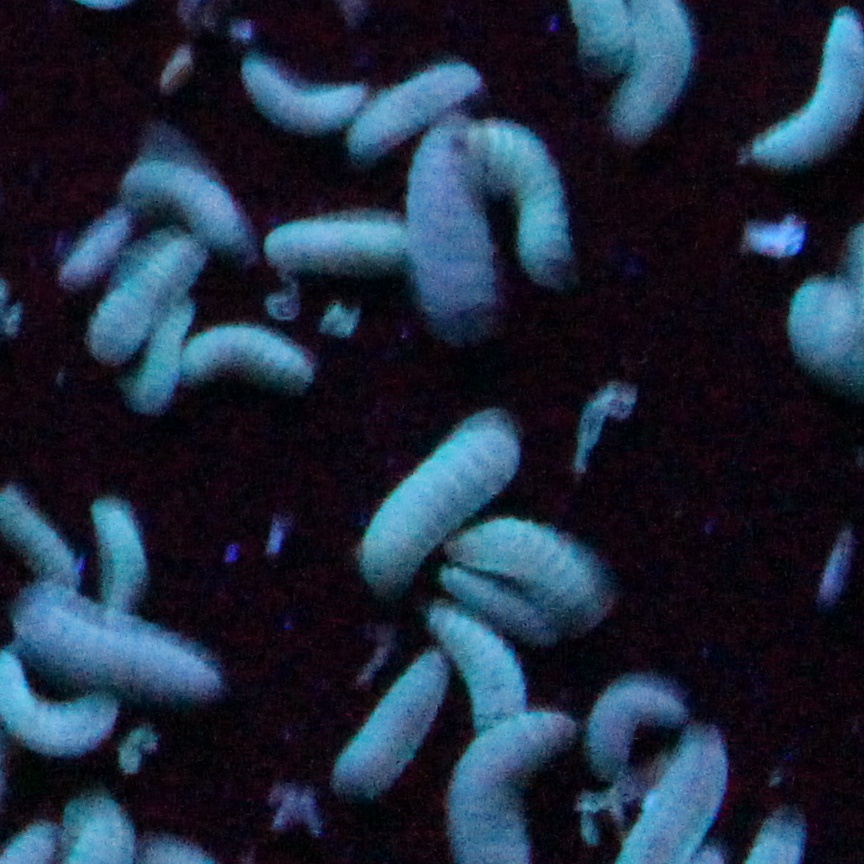larve: (357, 414, 530, 595), (2, 591, 240, 709), (400, 116, 507, 347), (446, 505, 613, 626), (325, 649, 452, 795), (417, 597, 538, 734), (92, 228, 207, 359), (348, 57, 486, 157), (127, 155, 259, 259), (434, 557, 569, 647), (244, 45, 367, 137), (580, 676, 694, 774), (265, 203, 413, 270), (180, 324, 315, 397), (121, 299, 207, 412), (86, 491, 148, 607), (59, 201, 136, 293)
